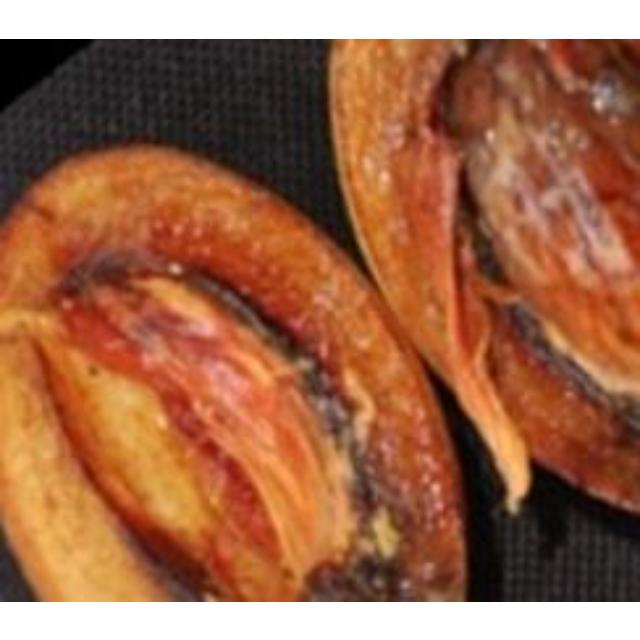damaged: (0, 140, 472, 599), (328, 38, 637, 523)
